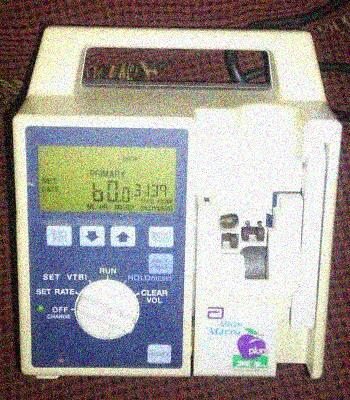plumxl1: (9, 28, 337, 382)
